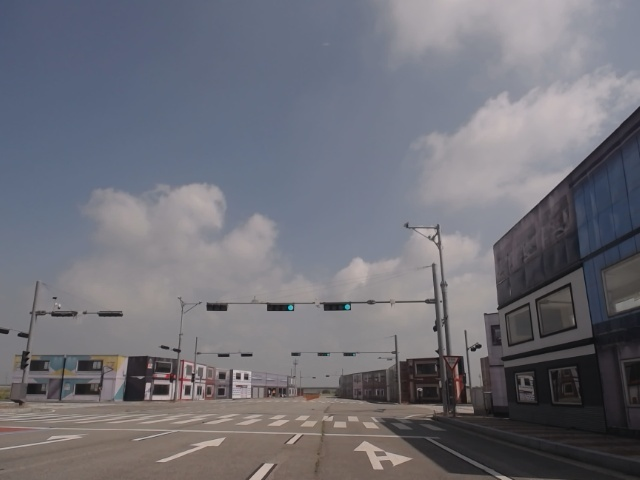straight_green_4: (323, 300, 352, 313), (268, 304, 295, 311)
